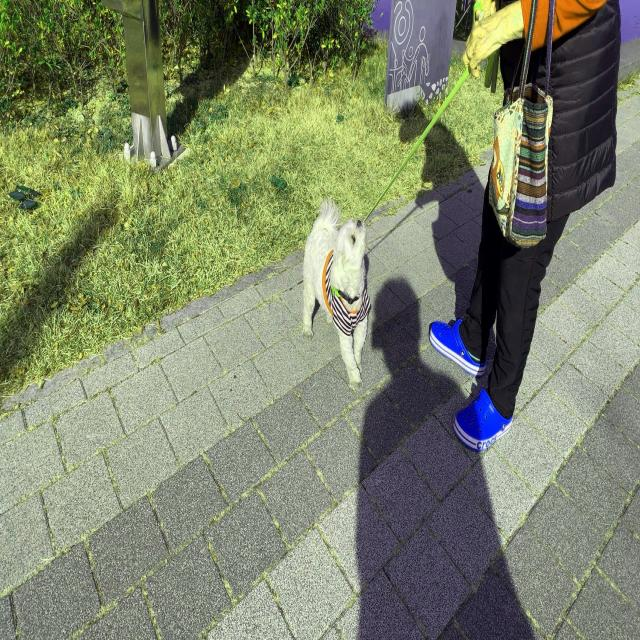Leashed_Dog: (298, 0, 524, 392)
